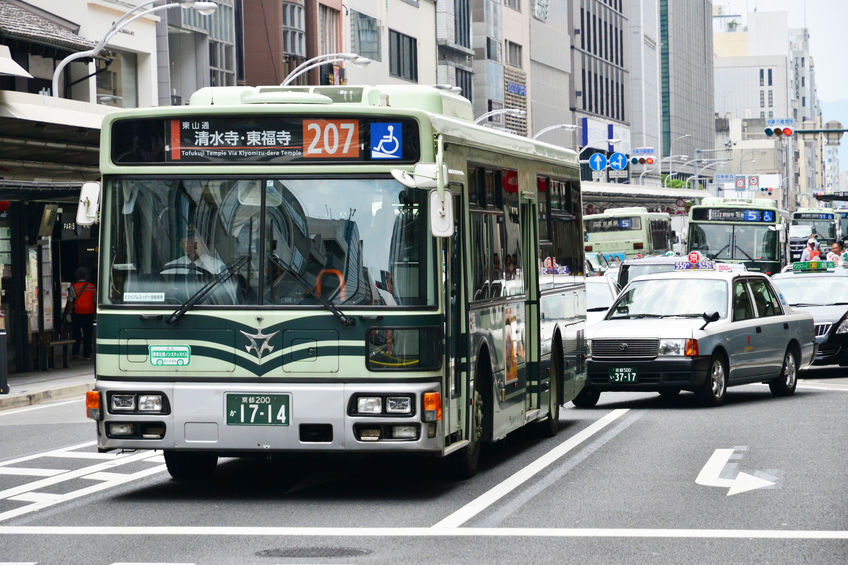destination: (162, 119, 363, 161)
